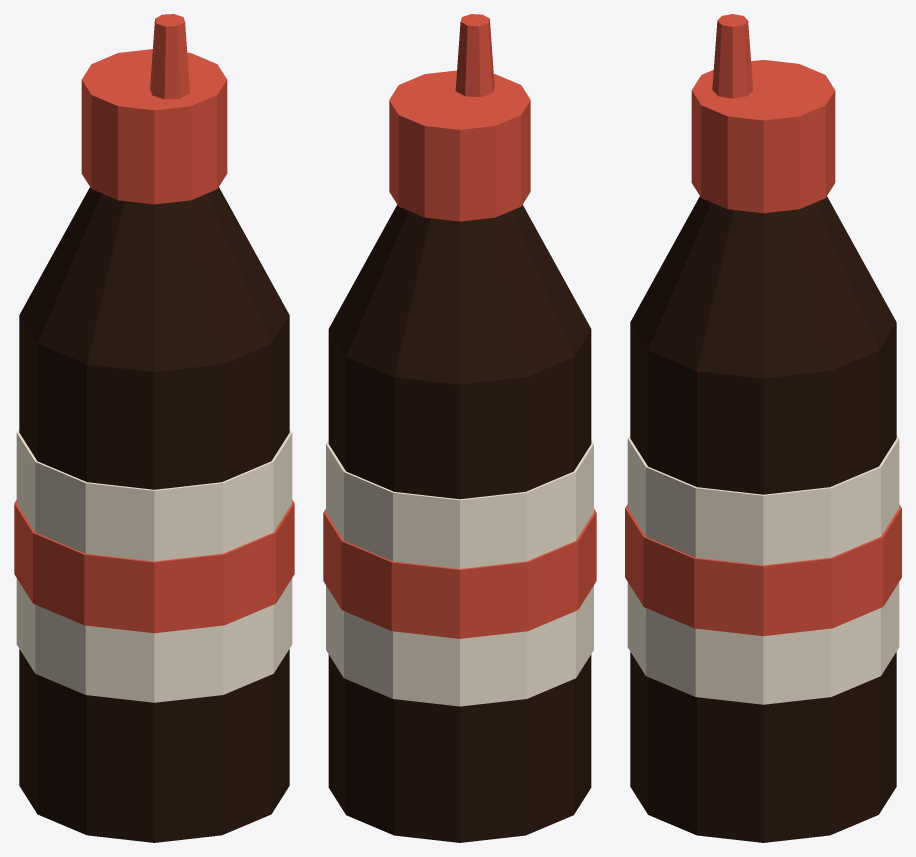
Rendered from SoyBottle.glb.
3 renders of one model, left to right at view 1: azimuth 30°, elevation 25°; view 2: azimuth 150°, elevation 25°; view 3: azimuth 270°, elevation 25°, orthographic. The views are drawn at different scales.
Visible parts, largest first — view 1: SoyBottle; view 2: SoyBottle; view 3: SoyBottle.
Part boxes in pixels (x1=…): SoyBottle: x1=14, y1=14, x2=294, y2=842; SoyBottle: x1=323, y1=14, x2=596, y2=842; SoyBottle: x1=625, y1=14, x2=901, y2=842.
Size of the model in its own units: 0.054 by 0.165 by 0.054.
